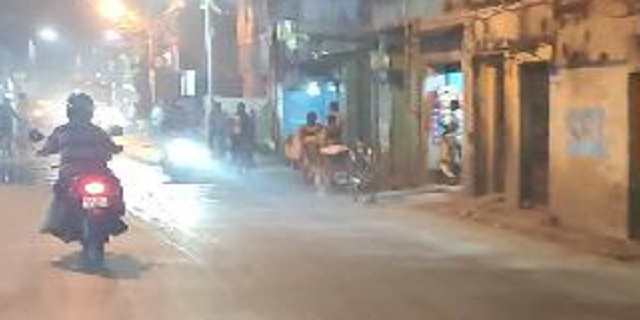Motorbike: (45, 92, 127, 262)
